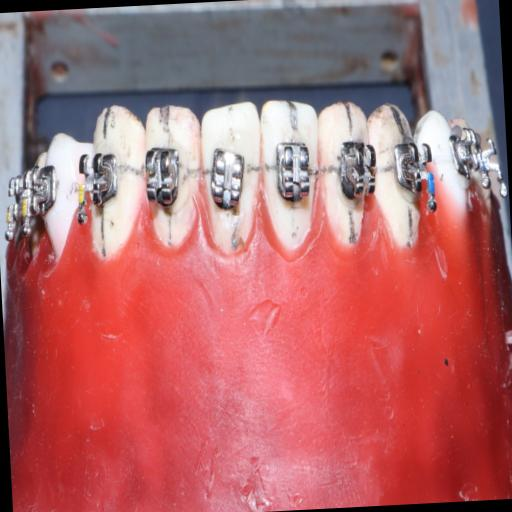correct_brace: (272, 137, 315, 215)
incorrect_brace: (206, 144, 251, 220)
